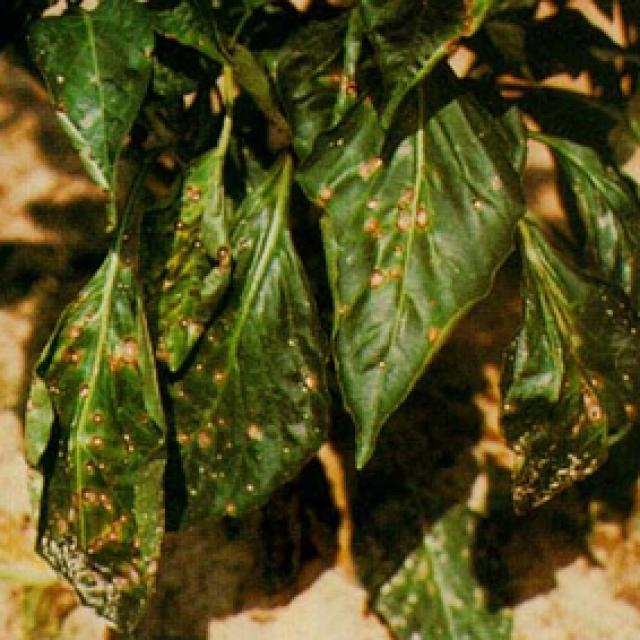bercak_daun: (328, 123, 510, 478), (14, 245, 178, 614), (173, 205, 344, 525), (518, 229, 640, 516), (140, 116, 246, 380)
